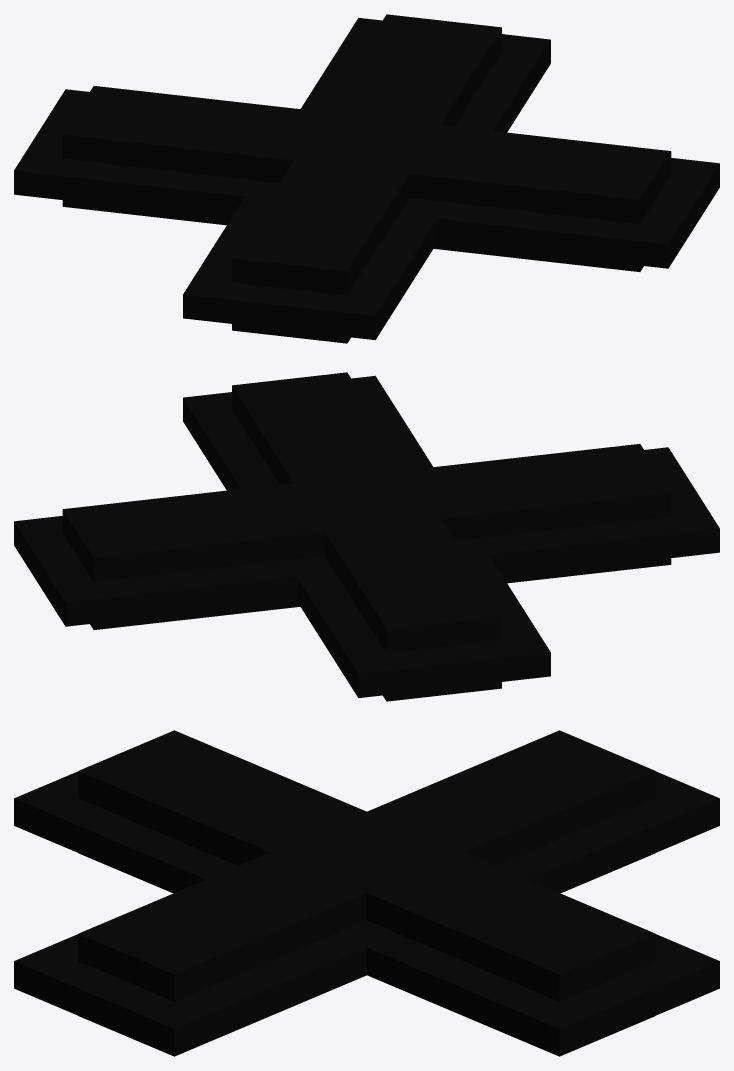
The model's file is Rush.fbx.
3 views of the same model, one above another, from view 1: azimuth 30°, elevation 25°; view 2: azimuth 150°, elevation 25°; view 3: azimuth 270°, elevation 25° (orthographic). The views are drawn at different scales.
Parts seen in each view (by area): view 1: Untitled; view 2: Untitled; view 3: Untitled.
Part boxes in pixels (<box>): Untitled: <box>14,14,719,343</box>; Untitled: <box>14,372,719,701</box>; Untitled: <box>14,730,719,1056</box>.
Bounding box in the file's own units: 4.67 × 0.6 × 4.67.
